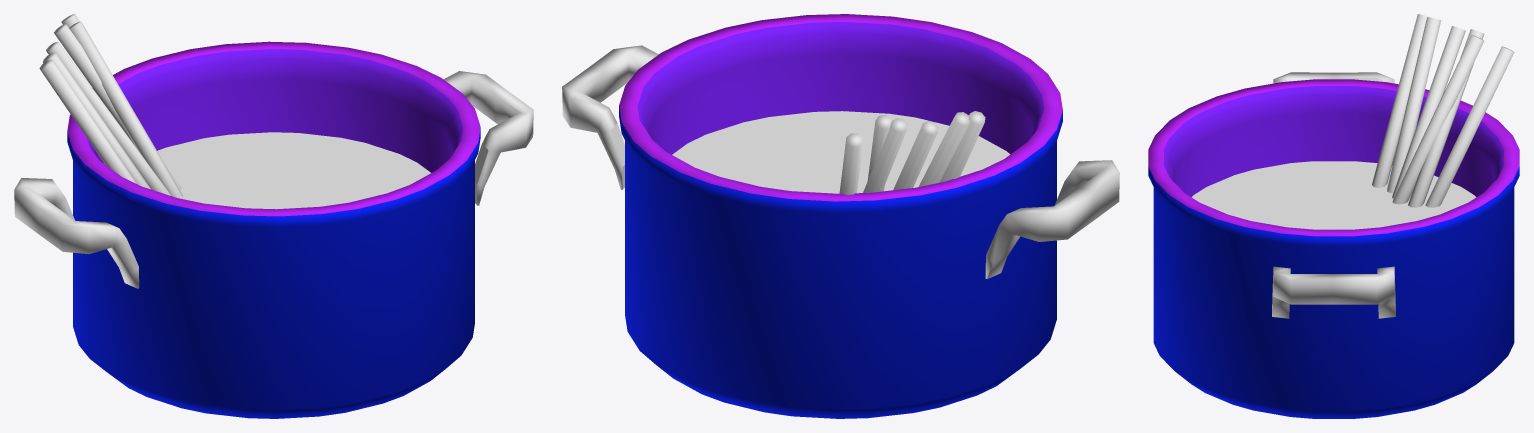
File: Spaghetti_-_Pot.fbx
The picture shows the model from 3 angles, left to right: view 1: azimuth 30°, elevation 25°; view 2: azimuth 150°, elevation 25°; view 3: azimuth 270°, elevation 25°; orthographic projection. The views are drawn at different scales.
Parts seen in each view (by area): view 1: Cylinder.001, Water, Cylinder.003, Spaghetti.002; view 2: Cylinder.001, Water, Cylinder.003, Spaghetti.002; view 3: Cylinder.001, Spaghetti.002, Water, Cylinder.003.
Part boxes in pixels (x1,y1,x2,y2): Cylinder.001: (67,41,480,418); Water: (157,132,430,209); Cylinder.003: (14,71,533,288); Spaghetti.002: (39,14,183,198); Cylinder.001: (619,14,1062,418); Water: (672,111,1009,193); Cylinder.003: (562,45,1119,279); Spaghetti.002: (839,111,985,194); Cylinder.001: (1148,79,1519,418); Spaghetti.002: (1372,14,1514,207); Water: (1191,161,1476,229); Cylinder.003: (1272,72,1395,318).
Size of the model in its own units: 83.38 by 49.28 by 62.94.
